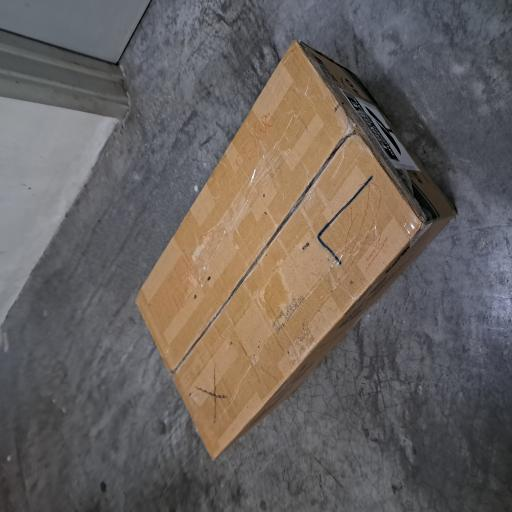cardboard: (41, 179, 352, 512)
